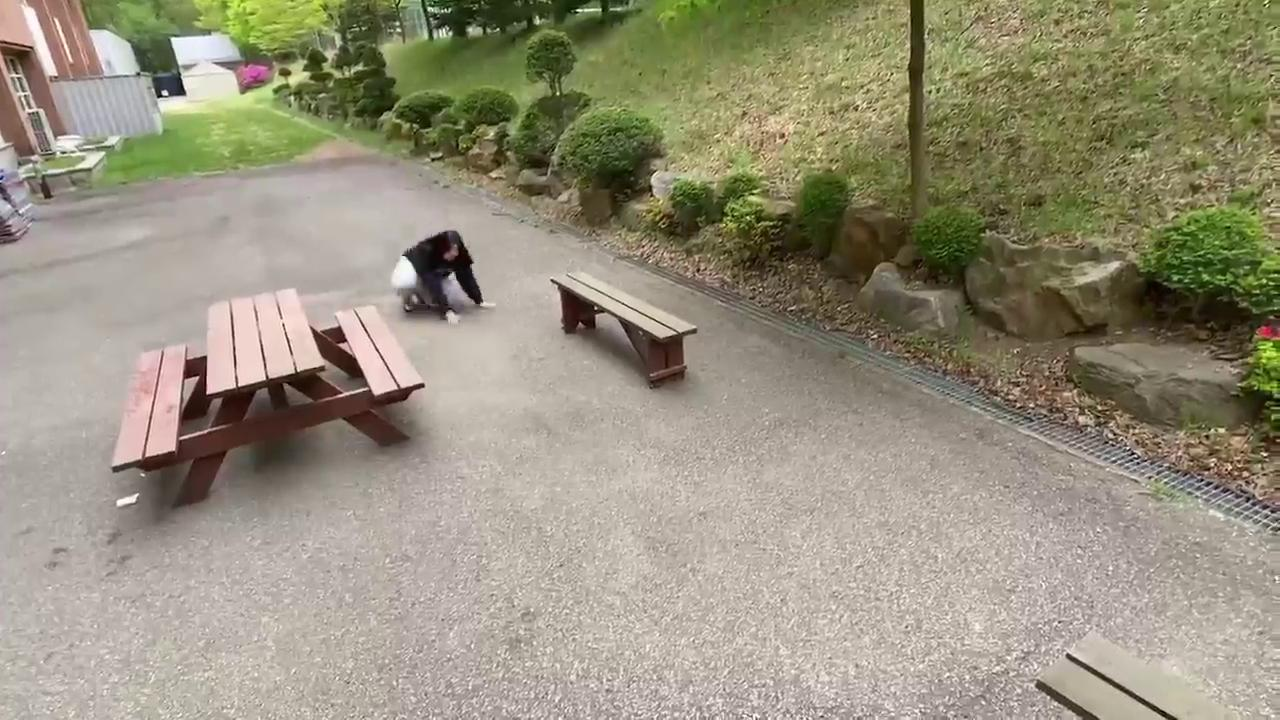fall_down: (386, 223, 496, 330)
